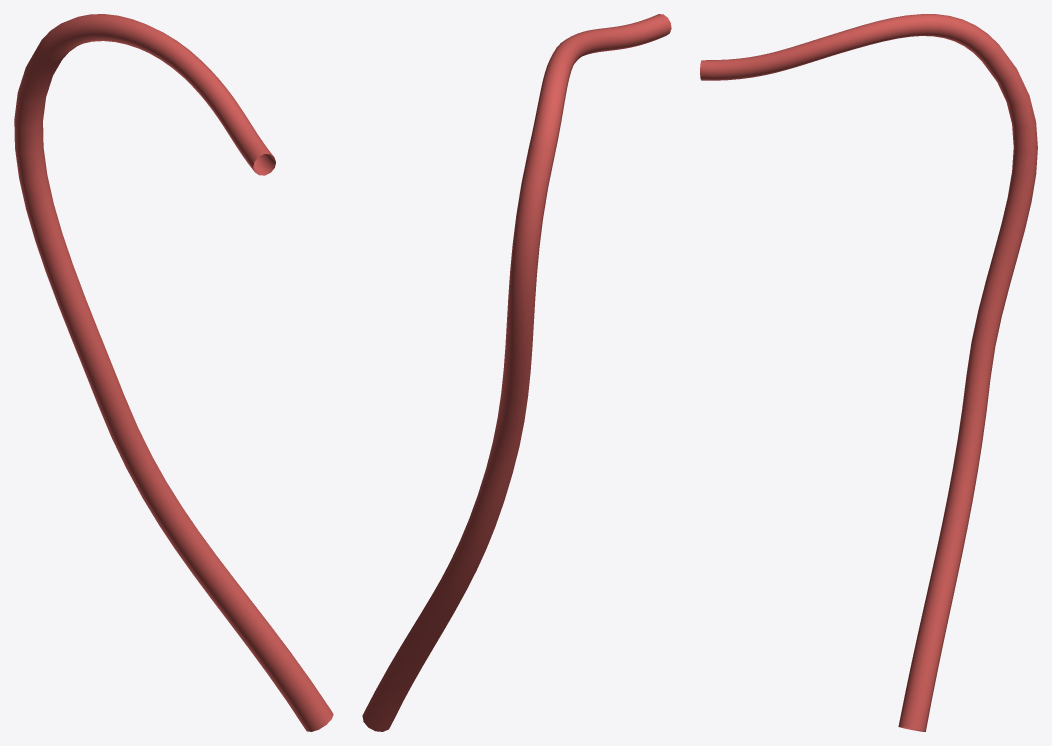
3 views of the same model, side by side, from view 1: azimuth 30°, elevation 25°; view 2: azimuth 150°, elevation 25°; view 3: azimuth 270°, elevation 25° (orthographic). The views are drawn at different scales.
Parts seen in each view (by area): view 1: 右侧旋肩胛动脉; view 2: 右侧旋肩胛动脉; view 3: 右侧旋肩胛动脉.
Boxes of the visible parts, x1=… form: 右侧旋肩胛动脉: x1=14, y1=14, x2=333, y2=731; 右侧旋肩胛动脉: x1=362, y1=14, x2=671, y2=731; 右侧旋肩胛动脉: x1=700, y1=14, x2=1037, y2=731.
Bounding box in the file's own units: 0.0207 × 0.0599 × 0.0286.
